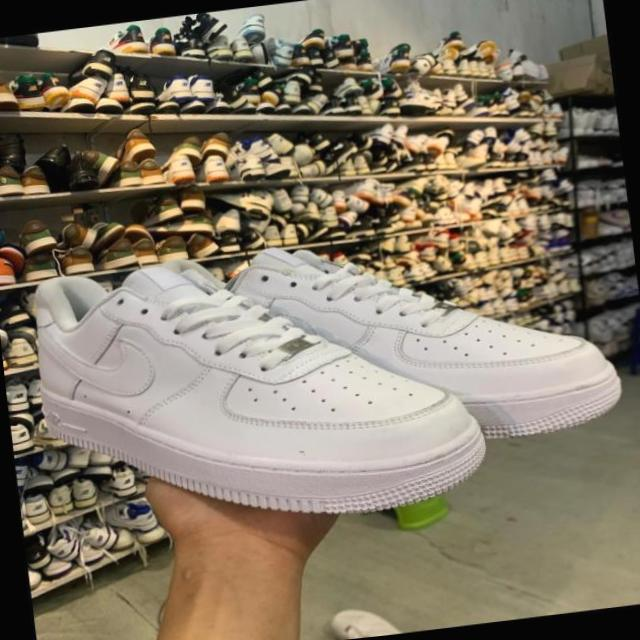nike_fake_airforce: (12, 223, 500, 556), (167, 202, 632, 478)
